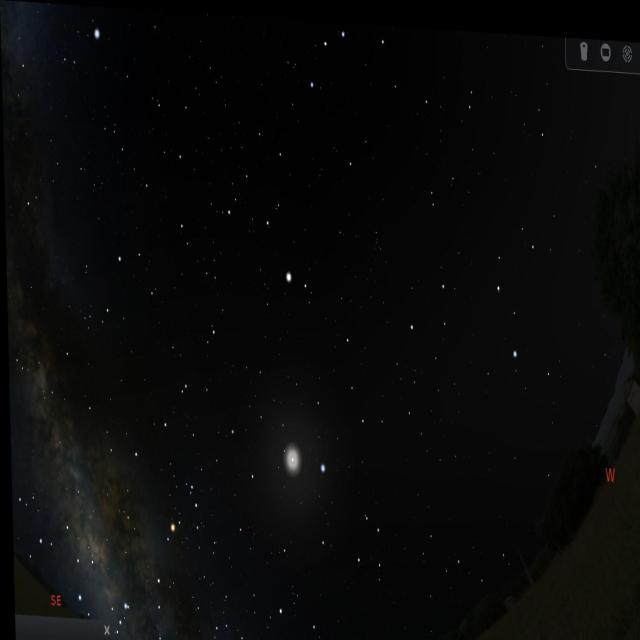bootes: (237, 124, 321, 304)
leo: (395, 206, 543, 389)
lyra: (56, 19, 108, 81)
moon: (264, 400, 310, 500)
scorpius: (106, 458, 207, 640)
